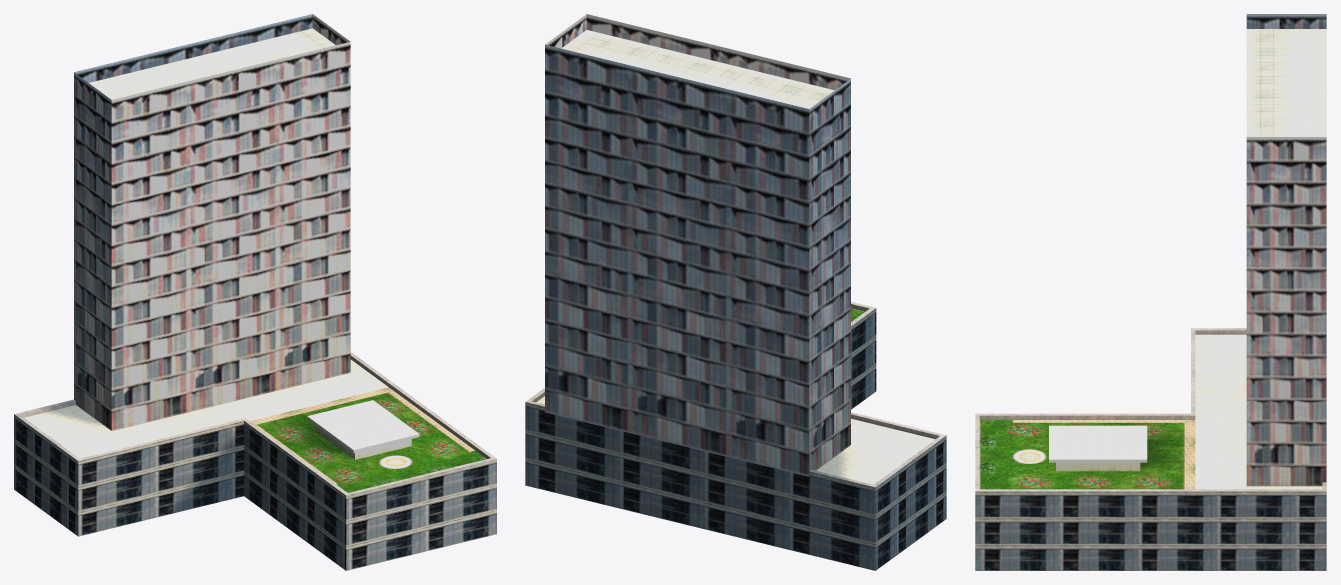
The model's file is 1C hotel.obj.
3 views of the same model, side by side, from view 1: azimuth 30°, elevation 25°; view 2: azimuth 150°, elevation 25°; view 3: azimuth 270°, elevation 25° (orthographic). The views are drawn at different scales.
Parts seen in each view (by area): view 1: 1C_hotel; view 2: 1C_hotel; view 3: 1C_hotel.
Boxes of the visible parts, x1,y1,x2,y2 form: 1C_hotel: (14,14,496,570); 1C_hotel: (525,14,946,570); 1C_hotel: (975,14,1326,570).
Bounding box in the file's own units: 83.65 × 102 × 76.19.
Materials: 1 (1 with a texture image).
